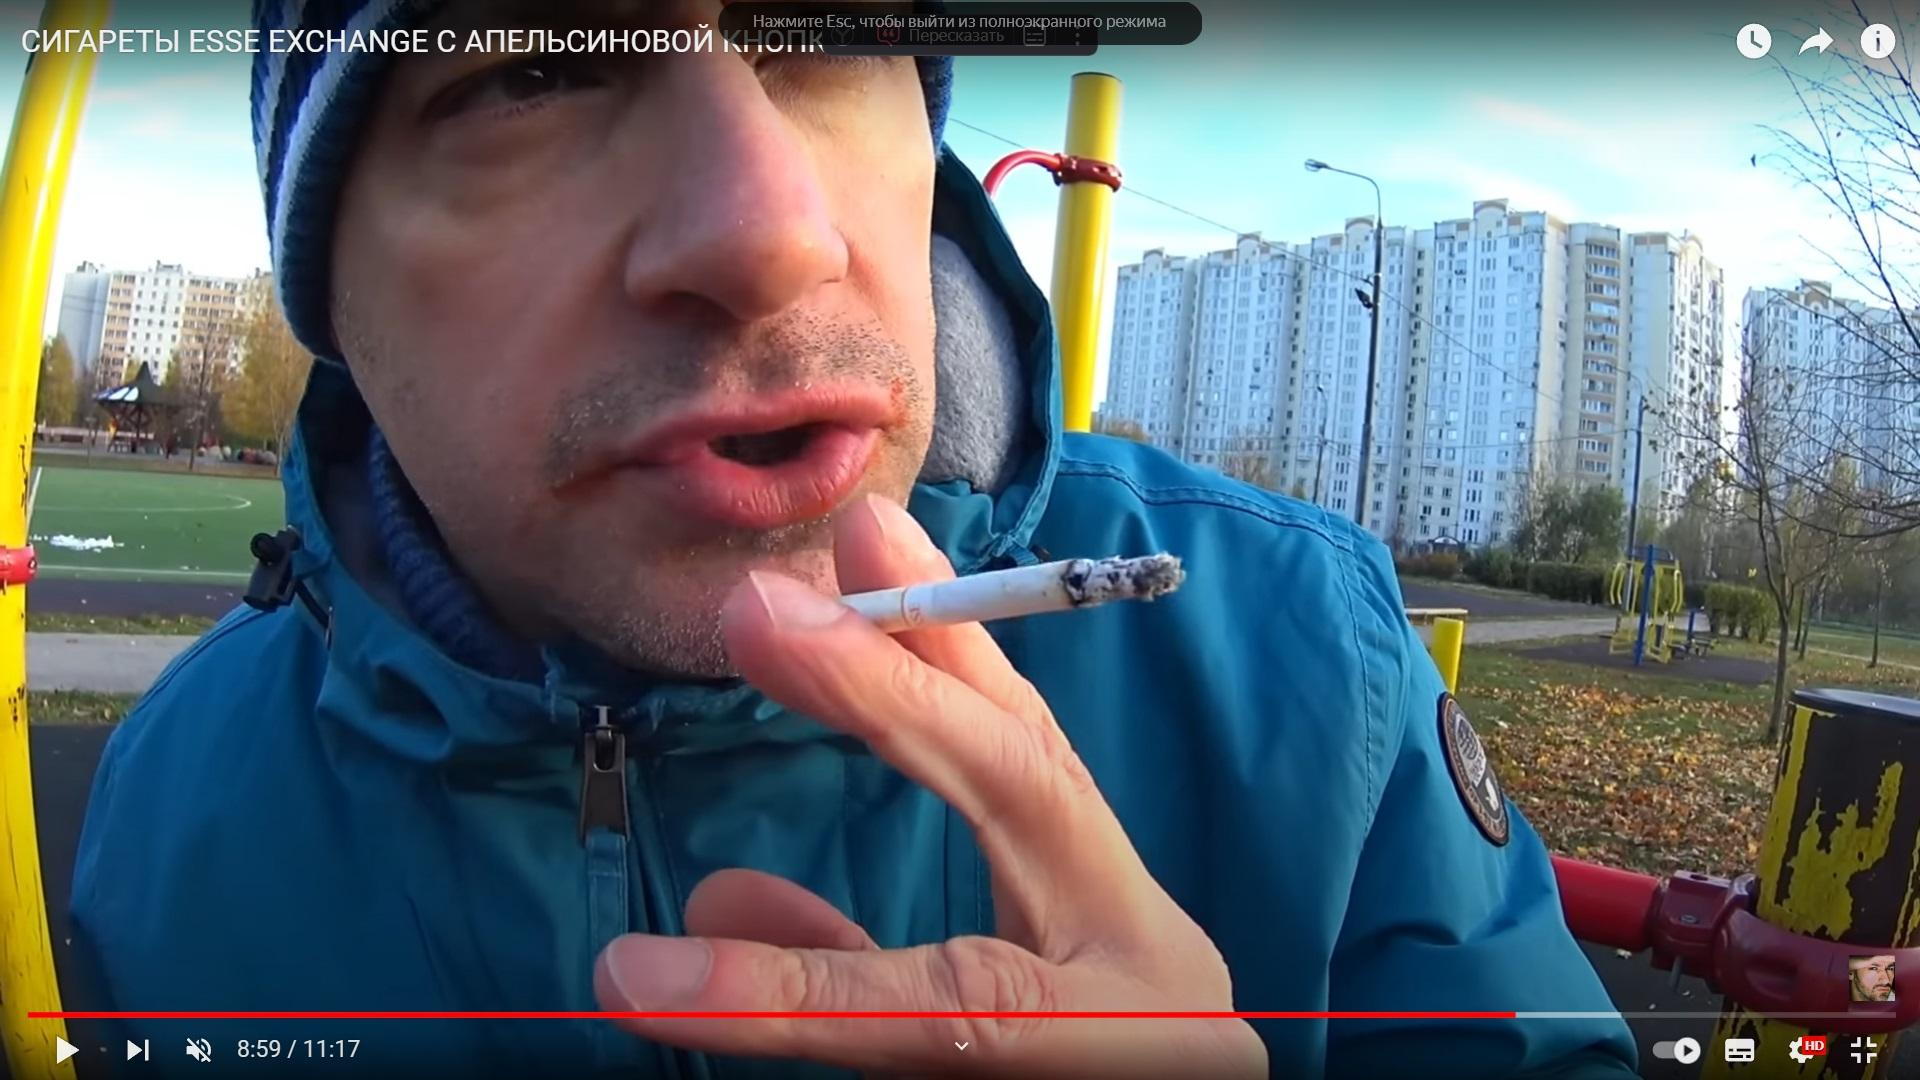cigarette: (832, 555, 1188, 633)
